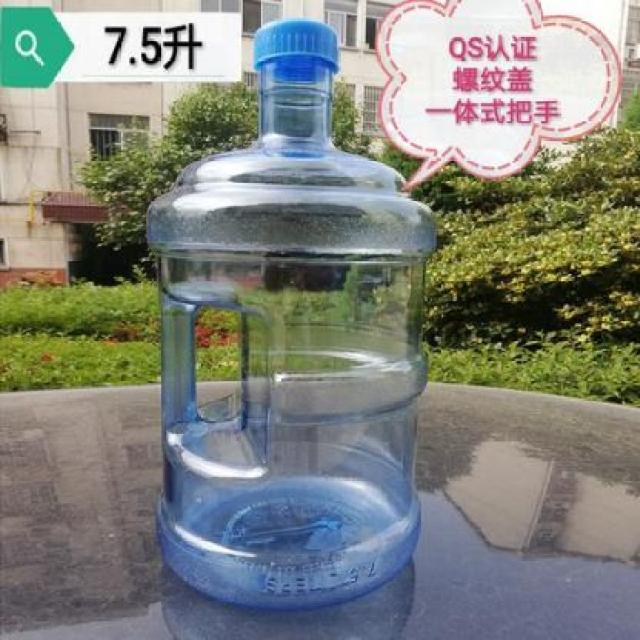coolerbottle: (140, 15, 441, 617)
